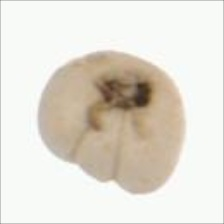L5: (68, 105, 131, 187), (86, 67, 158, 113)
L6: (35, 46, 189, 196)
